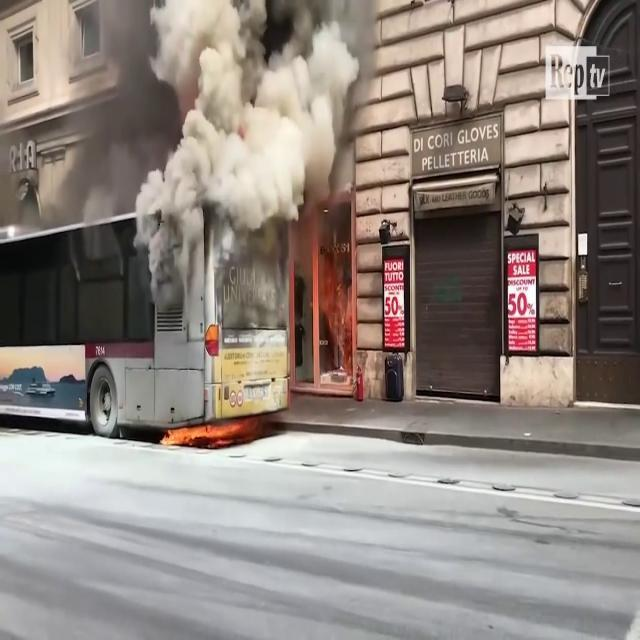Fire: (160, 416, 223, 446)
Smoke: (42, 0, 372, 288)
